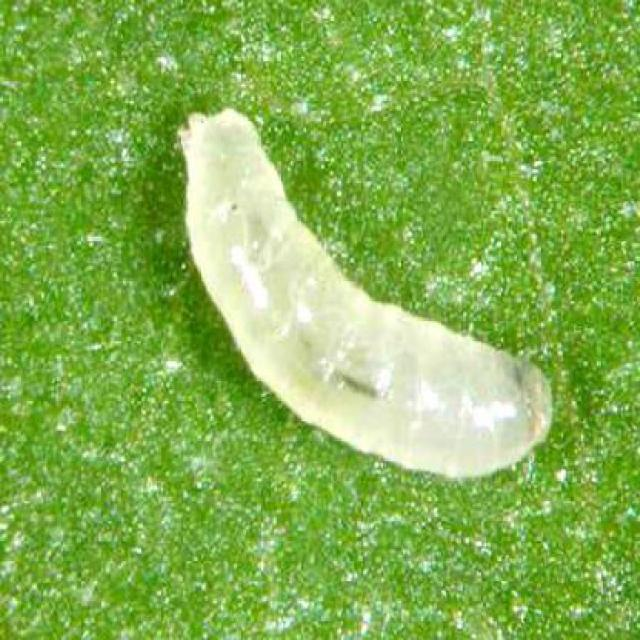whorl-maggot: (176, 102, 558, 484)
